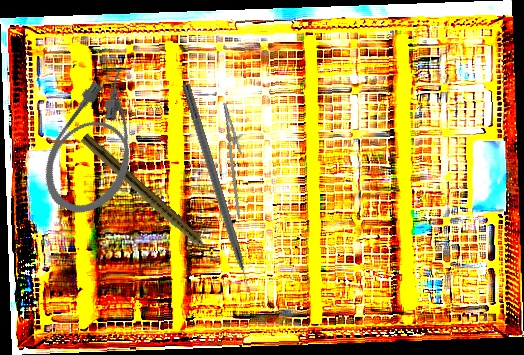Cannula: (29, 56, 168, 227)
Handpiece: (77, 132, 220, 263)
Hook Surgical: (179, 83, 255, 300)
Needle Holder: (209, 100, 263, 218)
